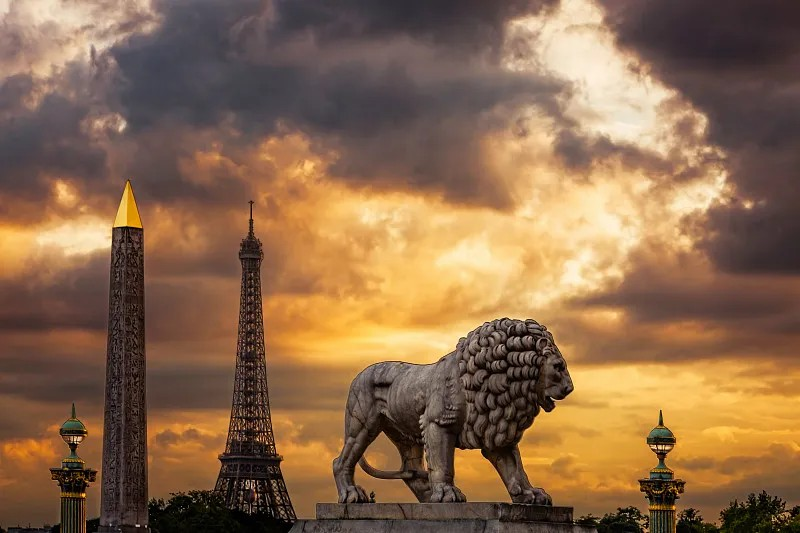Eiffel: (209, 200, 298, 524)
